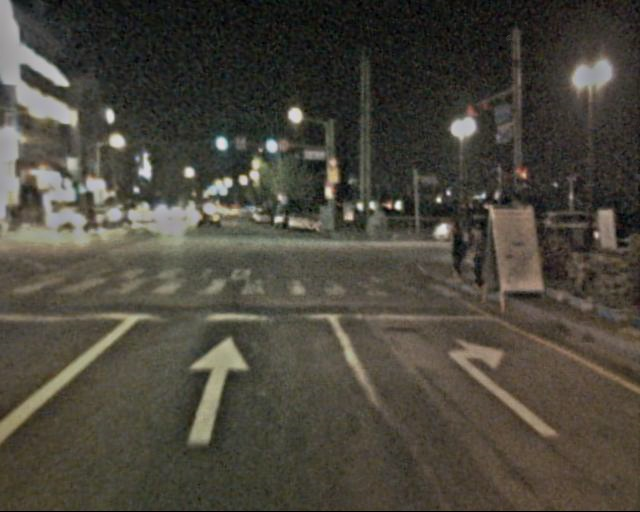person: (442, 211, 471, 283), (469, 218, 495, 295)
